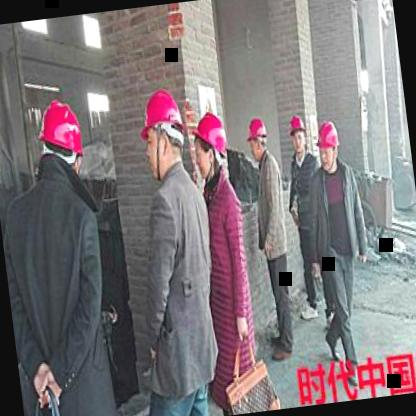helmet: (132, 80, 190, 178), (29, 91, 86, 178), (193, 105, 228, 176), (314, 116, 342, 169), (284, 107, 308, 157), (245, 113, 270, 156)
